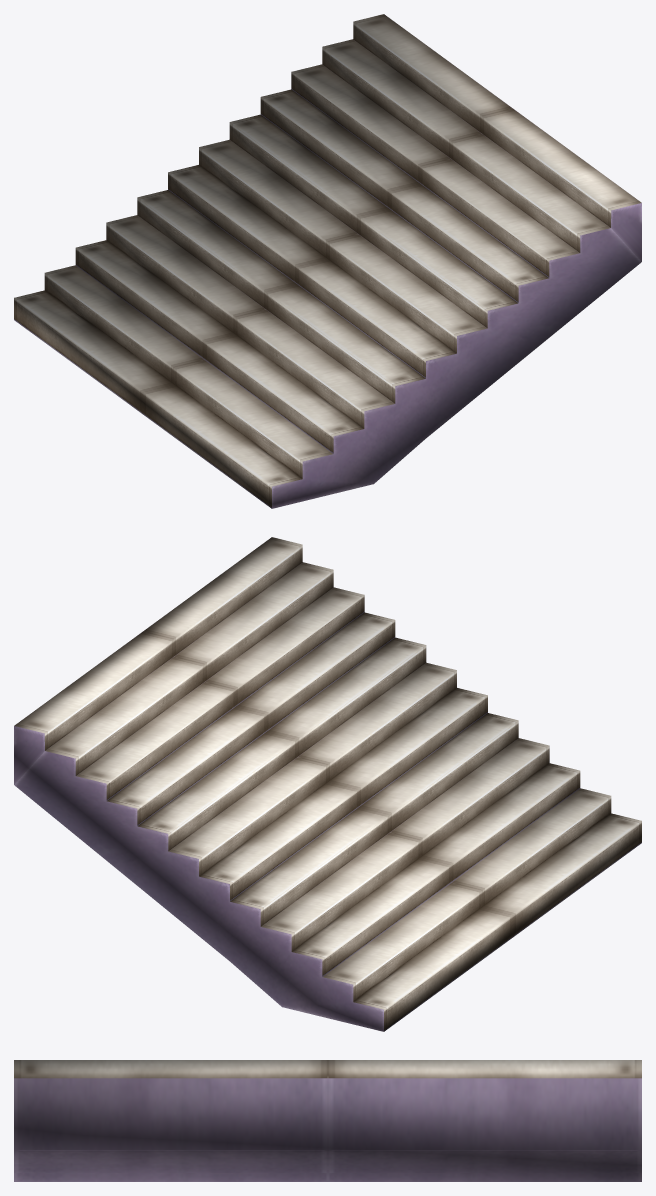
Rendered from a_SCstariup_1.glb.
3 renders of one model, top to bottom at view 1: azimuth 30°, elevation 25°; view 2: azimuth 150°, elevation 25°; view 3: azimuth 270°, elevation 25°, orthographic. The views are drawn at different scales.
Parts seen in each view (by area): view 1: a_SCstariup_1; view 2: a_SCstariup_1; view 3: a_SCstariup_1.
Boxes of the visible parts, box(x1,y1,x2,y2) form: a_SCstariup_1: box(14, 14, 641, 508); a_SCstariup_1: box(14, 537, 641, 1031); a_SCstariup_1: box(14, 1060, 641, 1181).
Size of the model in its own units: 3.9 by 2.17 by 4.71.
Materials: 2 (2 with a texture image).
